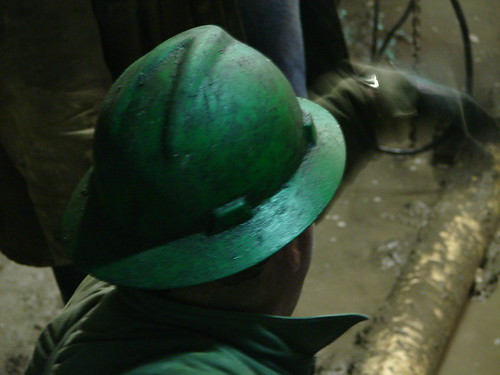person hardhat: (43, 28, 367, 375)
